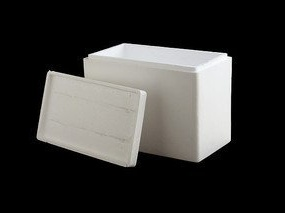5/可回收垃圾/泡沫: (82, 43, 232, 164), (36, 69, 146, 168)
